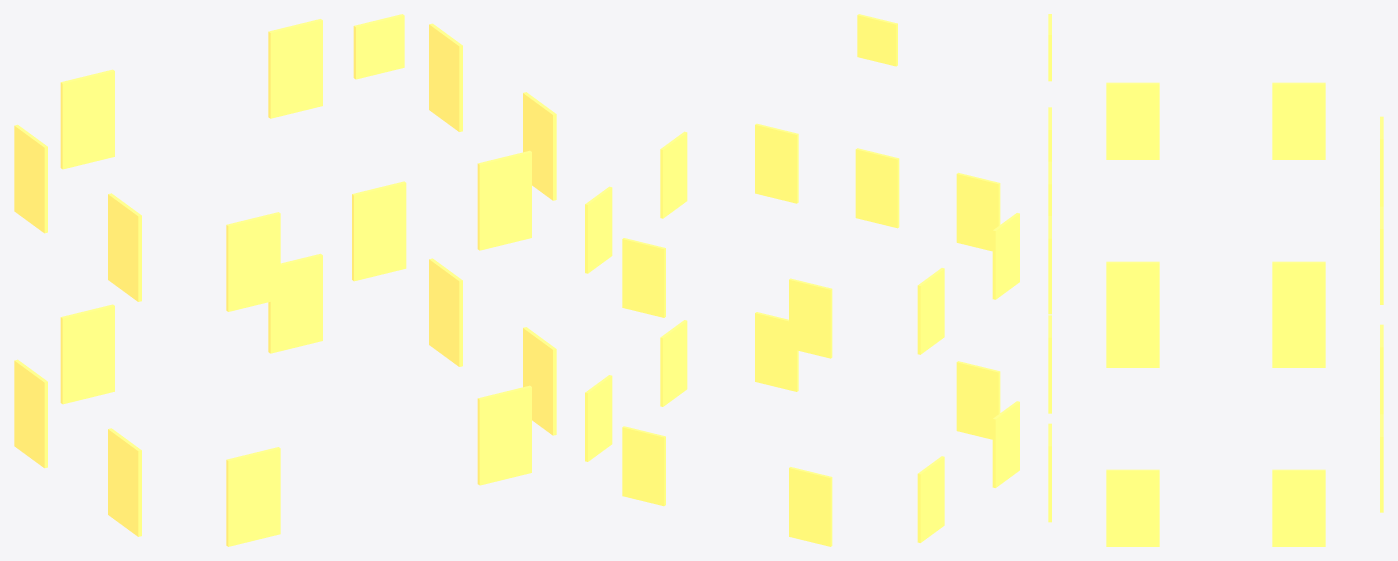
The model's file is CandyHouse_Butter_Glow.glb.
The picture shows the model from 3 angles, left to right: view 1: azimuth 30°, elevation 25°; view 2: azimuth 150°, elevation 25°; view 3: azimuth 270°, elevation 25°; orthographic projection. The views are drawn at different scales.
Parts seen in each view (by area): view 1: CandyHouse_Butter_Glow; view 2: CandyHouse_Butter_Glow; view 3: CandyHouse_Butter_Glow.
Boxes of the visible parts, x1=… form: CandyHouse_Butter_Glow: x1=14, y1=14, x2=556, y2=546; CandyHouse_Butter_Glow: x1=585, y1=14, x2=1019, y2=546; CandyHouse_Butter_Glow: x1=1048, y1=14, x2=1383, y2=546.
Bounding box in the file's own units: 23.2 × 25.88 × 18.2.
